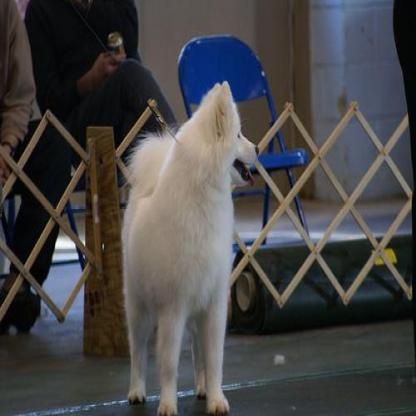Samoyed: (118, 75, 260, 414)
